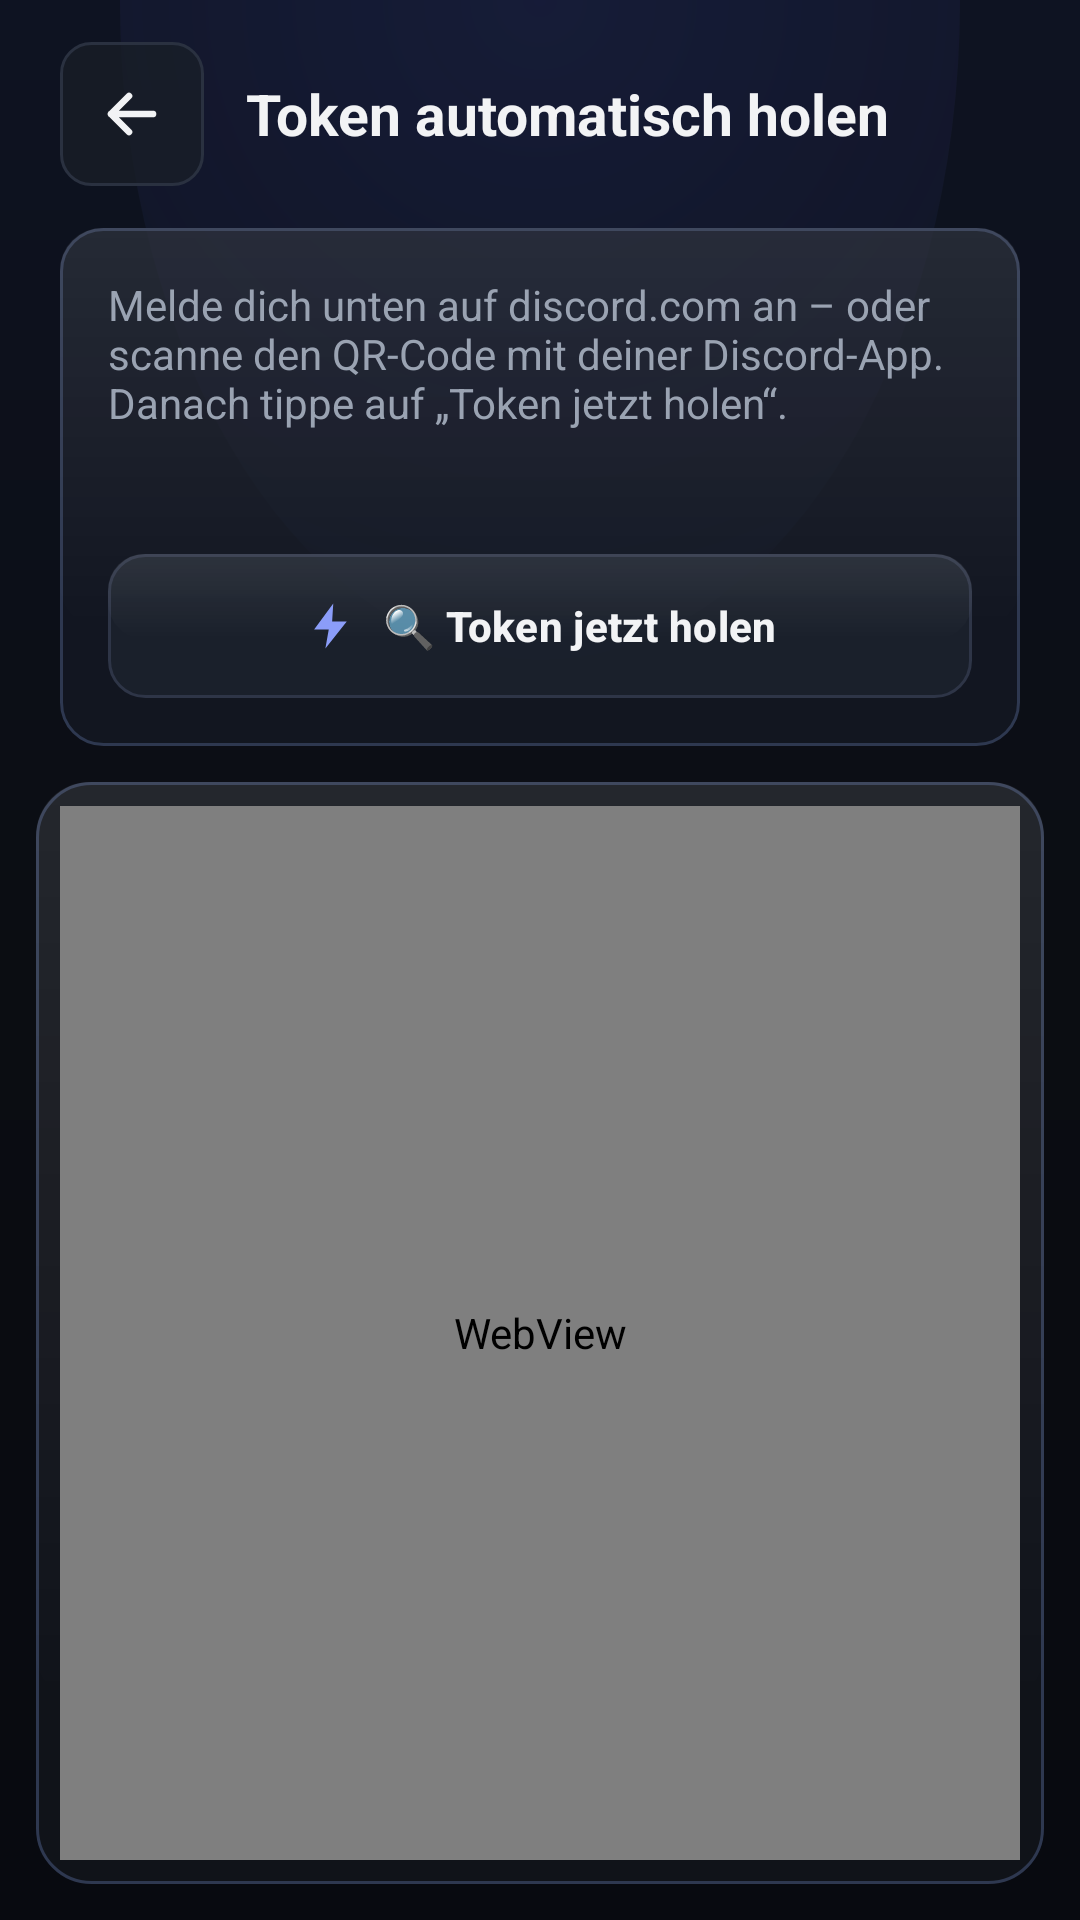

Named icons in this screenshot (1080*1920) and their centers, (x=x, y=y):
Zurück: (x=132, y=114)
